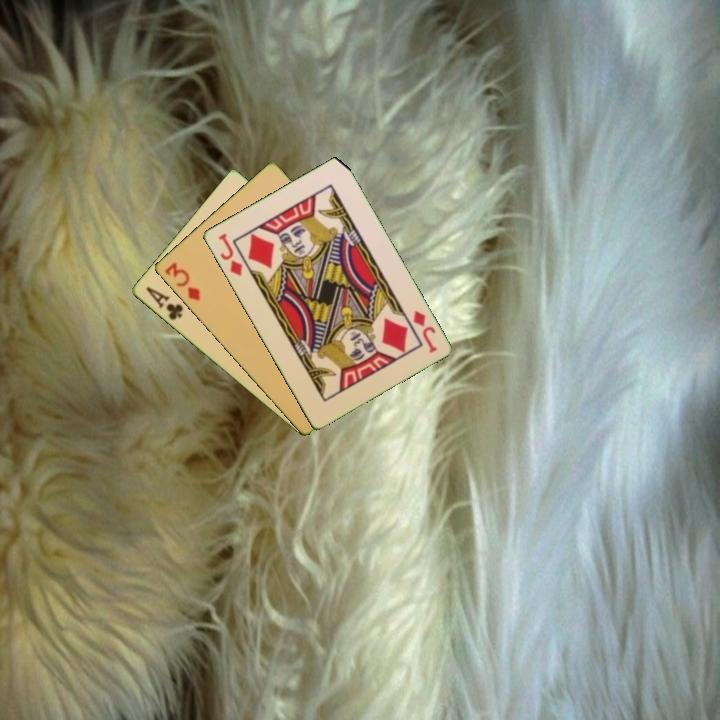3d: (161, 258, 203, 304)
Ac: (142, 283, 186, 323)
Jd: (409, 307, 440, 356), (215, 230, 245, 279)
